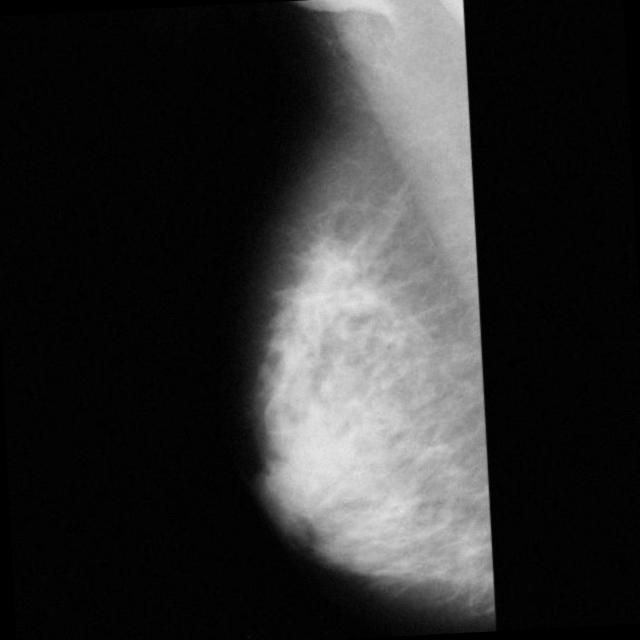ASYM: (288, 266, 352, 331)
